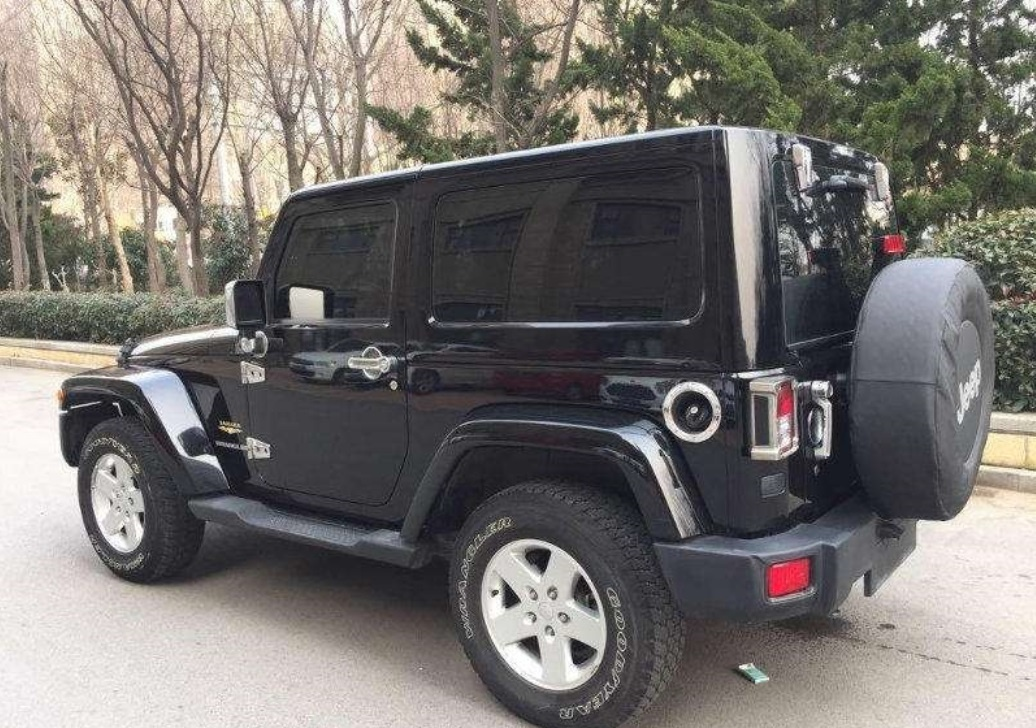jeep: (90, 138, 986, 698)
